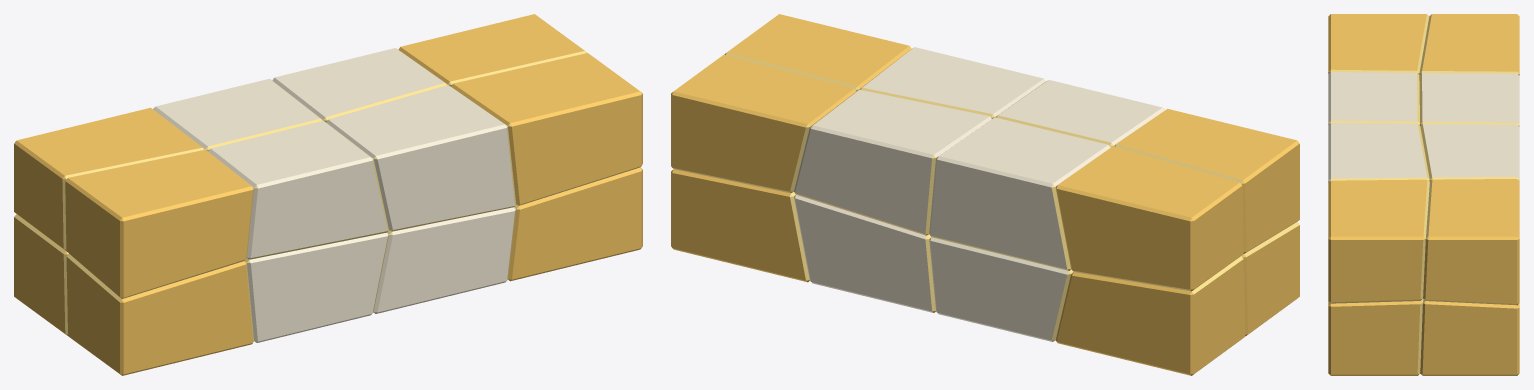
File: butter_bar-broken.glb
The picture shows the model from 3 angles, left to right: view 1: azimuth 30°, elevation 25°; view 2: azimuth 150°, elevation 25°; view 3: azimuth 270°, elevation 25°; orthographic projection. The views are drawn at different scales.
Visible parts, largest first — view 1: fragment_08, fragment_11, fragment_10, fragment_09, fragment_00, fragment_12, fragment_01, fragment_03, fragment_02, fragment_15, fragment_14, fragment_13 (+1 smaller); view 2: fragment_12, fragment_13, fragment_14, fragment_15, fragment_04, fragment_08, fragment_07, fragment_06, fragment_05, fragment_11, fragment_10, fragment_09 (+1 smaller); view 3: fragment_11, fragment_15, fragment_07, fragment_03, fragment_12, fragment_08, fragment_10, fragment_14, fragment_13, fragment_09.
Part boxes in pixels (left/top/right/bottom): fragment_08: left=65, top=149, right=254, bottom=298; fragment_11: left=451, top=53, right=642, bottom=205; fragment_10: left=326, top=85, right=515, bottom=231; fragment_09: left=208, top=120, right=388, bottom=259; fragment_00: left=66, top=254, right=253, bottom=375; fragment_12: left=14, top=107, right=204, bottom=250; fragment_01: left=244, top=232, right=388, bottom=342; fragment_03: left=508, top=167, right=642, bottom=281; fragment_02: left=373, top=207, right=515, bottom=313; fragment_15: left=398, top=14, right=587, bottom=86; fragment_14: left=272, top=48, right=447, bottom=122; fragment_13: left=153, top=78, right=322, bottom=150; fragment_12: left=1055, top=146, right=1243, bottom=291; fragment_13: left=929, top=117, right=1110, bottom=270; fragment_14: left=794, top=89, right=991, bottom=235; fragment_15: left=671, top=54, right=856, bottom=193; fragment_04: left=1055, top=256, right=1245, bottom=375; fragment_08: left=1114, top=108, right=1299, bottom=253; fragment_07: left=671, top=169, right=809, bottom=282; fragment_06: left=794, top=195, right=936, bottom=312; fragment_05: left=929, top=237, right=1073, bottom=341; fragment_11: left=724, top=14, right=911, bottom=91; fragment_10: left=859, top=47, right=1045, bottom=118; fragment_09: left=995, top=80, right=1164, bottom=147; fragment_11: left=1328, top=179, right=1429, bottom=303; fragment_15: left=1423, top=179, right=1519, bottom=305; fragment_07: left=1420, top=299, right=1519, bottom=375; fragment_03: left=1328, top=299, right=1423, bottom=375; fragment_12: left=1419, top=14, right=1519, bottom=75; fragment_08: left=1328, top=14, right=1429, bottom=74; fragment_10: left=1328, top=123, right=1429, bottom=182; fragment_14: left=1420, top=123, right=1519, bottom=181; fragment_13: left=1419, top=73, right=1519, bottom=126; fragment_09: left=1328, top=72, right=1419, bottom=125.
Size of the model in its own units: 2.56 by 0.74 by 0.92.
